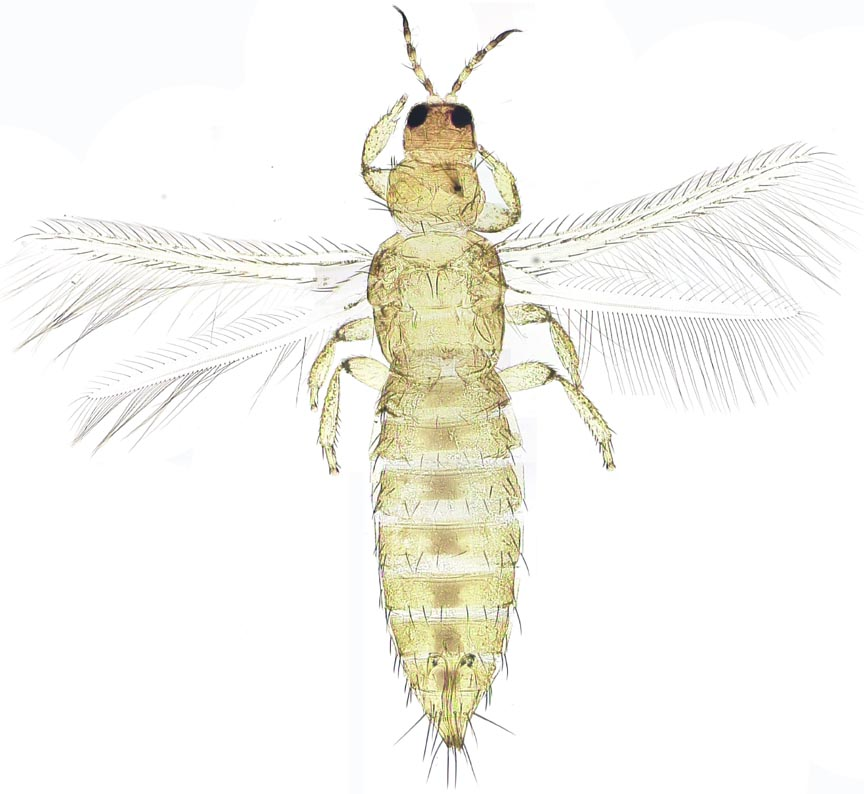Thripidae: (11, 7, 832, 773)
